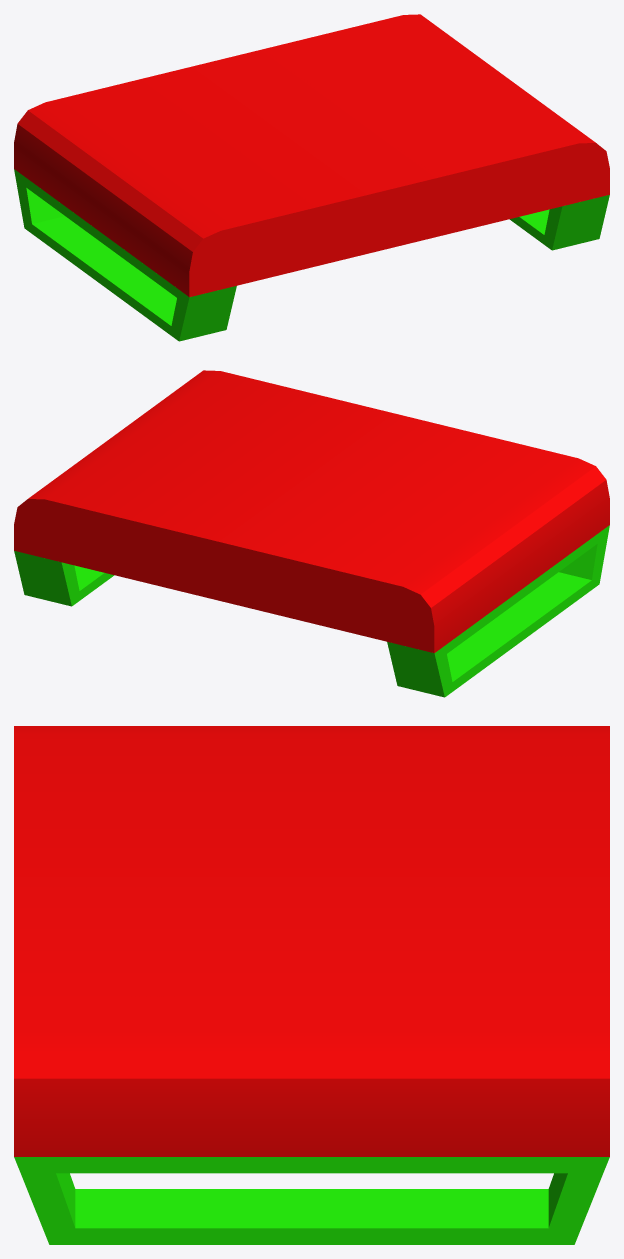
The model's file is umgebung_roy_stuhl_low.FBX.
3 renders of one model, top to bottom at view 1: azimuth 30°, elevation 25°; view 2: azimuth 150°, elevation 25°; view 3: azimuth 270°, elevation 25°, orthographic. The views are drawn at different scales.
Parts seen in each view (by area): view 1: o_roy_sitzflaesche_low, o_roy_stuhlbein_low, i_roy_stuhlbein_low; view 2: o_roy_sitzflaesche_low, o_roy_stuhlbein_low, i_roy_stuhlbein_low; view 3: o_roy_sitzflaesche_low, i_roy_stuhlbein_low.
Part boxes in pixels (x1,y1,x2,y2): o_roy_sitzflaesche_low: (14, 14, 609, 297); o_roy_stuhlbein_low: (14, 169, 236, 341); i_roy_stuhlbein_low: (509, 195, 609, 250); o_roy_sitzflaesche_low: (14, 370, 609, 653); o_roy_stuhlbein_low: (387, 525, 609, 697); i_roy_stuhlbein_low: (14, 551, 114, 606); o_roy_sitzflaesche_low: (14, 726, 609, 1156); i_roy_stuhlbein_low: (14, 1157, 609, 1244).
Bounding box in the file's own units: 218 × 157 × 54.8.
